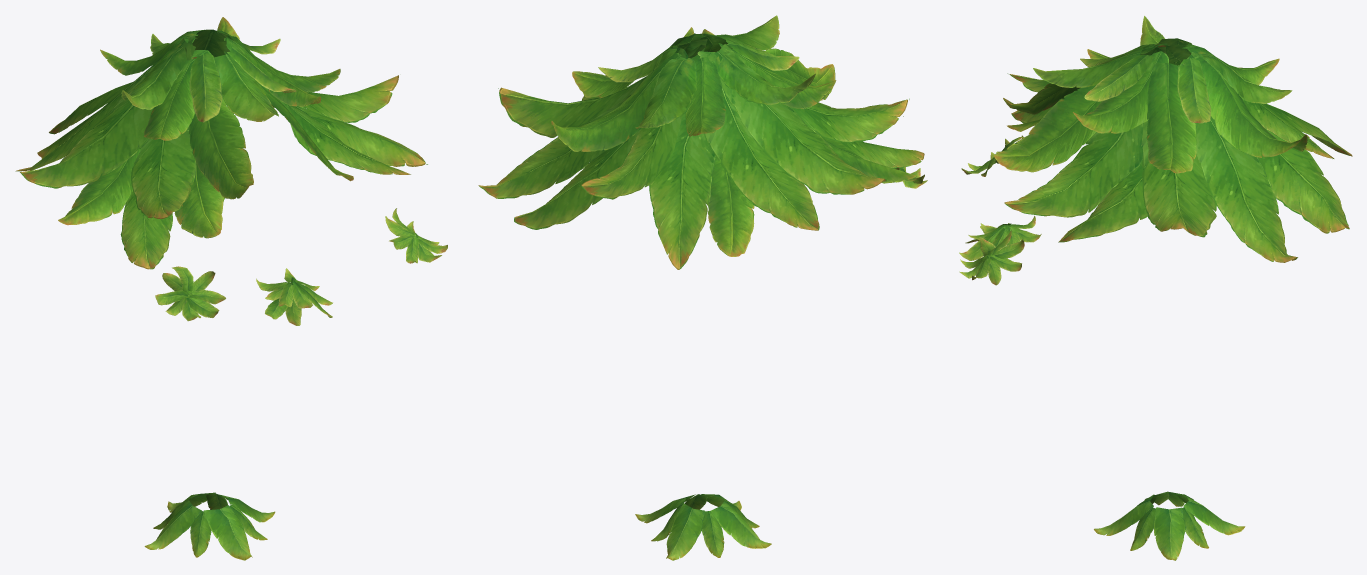
Rendered from Homeworld_Exterior_Xm_Build_Mainhouse_01_D_Lod0.fbx.
3 views of the same model, side by side, from view 1: azimuth 30°, elevation 25°; view 2: azimuth 150°, elevation 25°; view 3: azimuth 270°, elevation 25° (orthographic).
Visible parts, largest first — view 1: Homeworld_Exterior_Xm_Build_Mainhouse_01_D_Lod0; view 2: Homeworld_Exterior_Xm_Build_Mainhouse_01_D_Lod0; view 3: Homeworld_Exterior_Xm_Build_Mainhouse_01_D_Lod0.
Part boxes in pixels (x1,y1,x2,y2): Homeworld_Exterior_Xm_Build_Mainhouse_01_D_Lod0: [15, 17, 447, 560]; Homeworld_Exterior_Xm_Build_Mainhouse_01_D_Lod0: [478, 15, 927, 560]; Homeworld_Exterior_Xm_Build_Mainhouse_01_D_Lod0: [959, 16, 1352, 560].
Bounding box in the file's own units: 22.46 × 27.68 × 20.26.
1 material, 1 textured.
